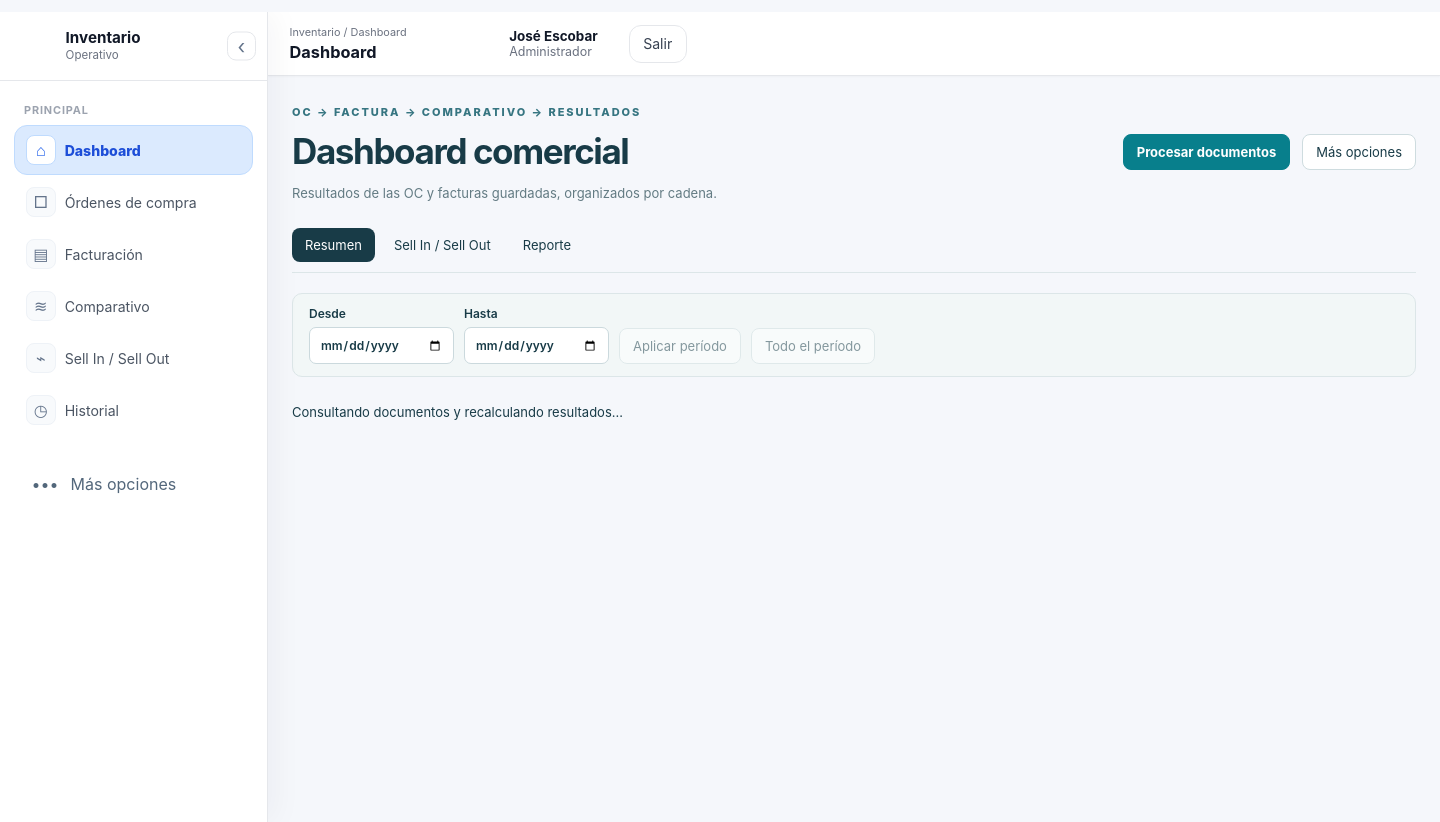
Test: Dashboard › muestra configuración como módulo conectado
The width and height of the screenshot is (1440, 822).
Click the button with aria-label "Más funciones".
click(134, 484)  # box top-left (14, 460), bottom-right (253, 508)
(page scrolled)
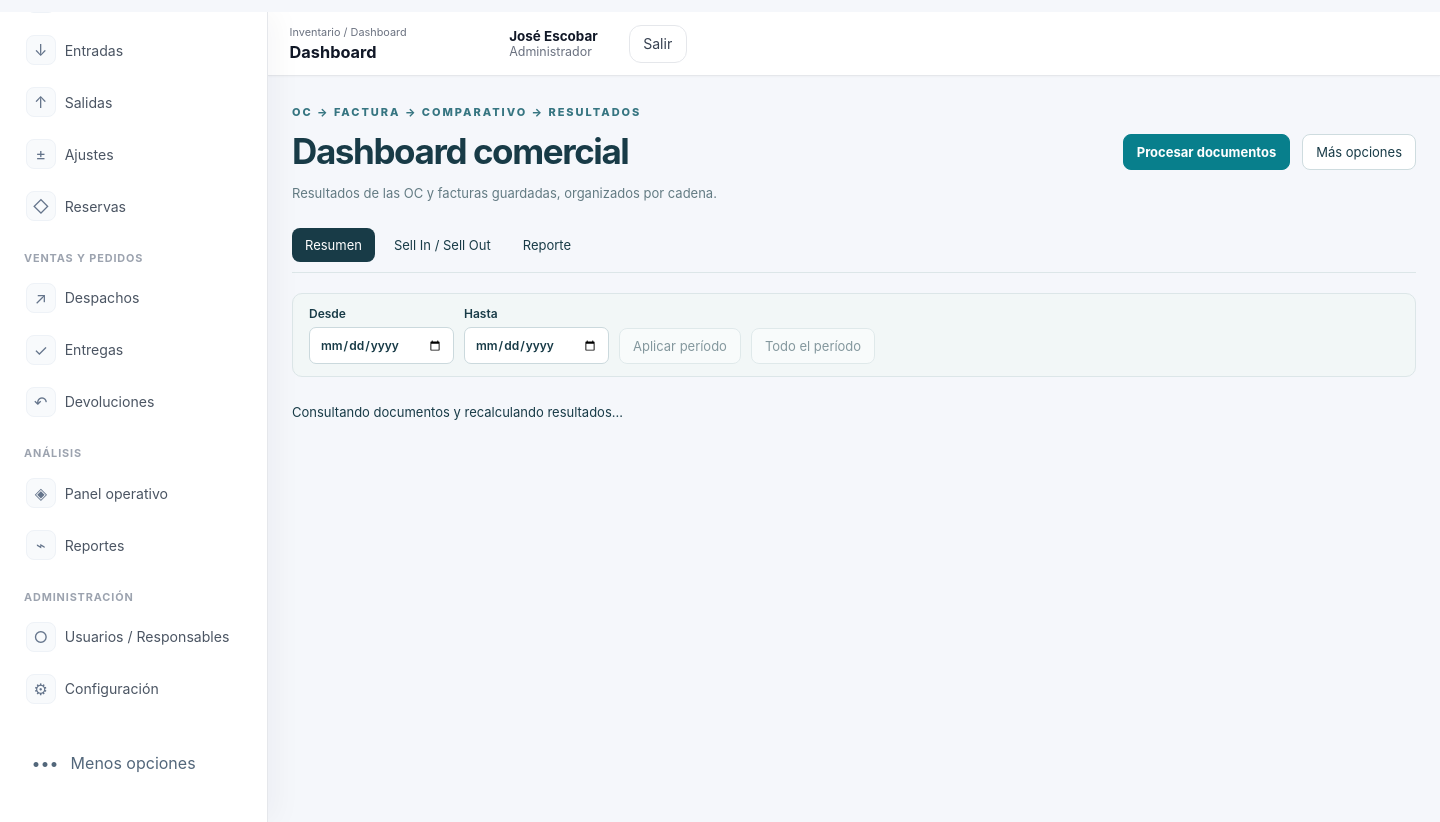
Click the button "⚙ Configuración".
click(134, 689)  # box top-left (14, 664), bottom-right (253, 714)
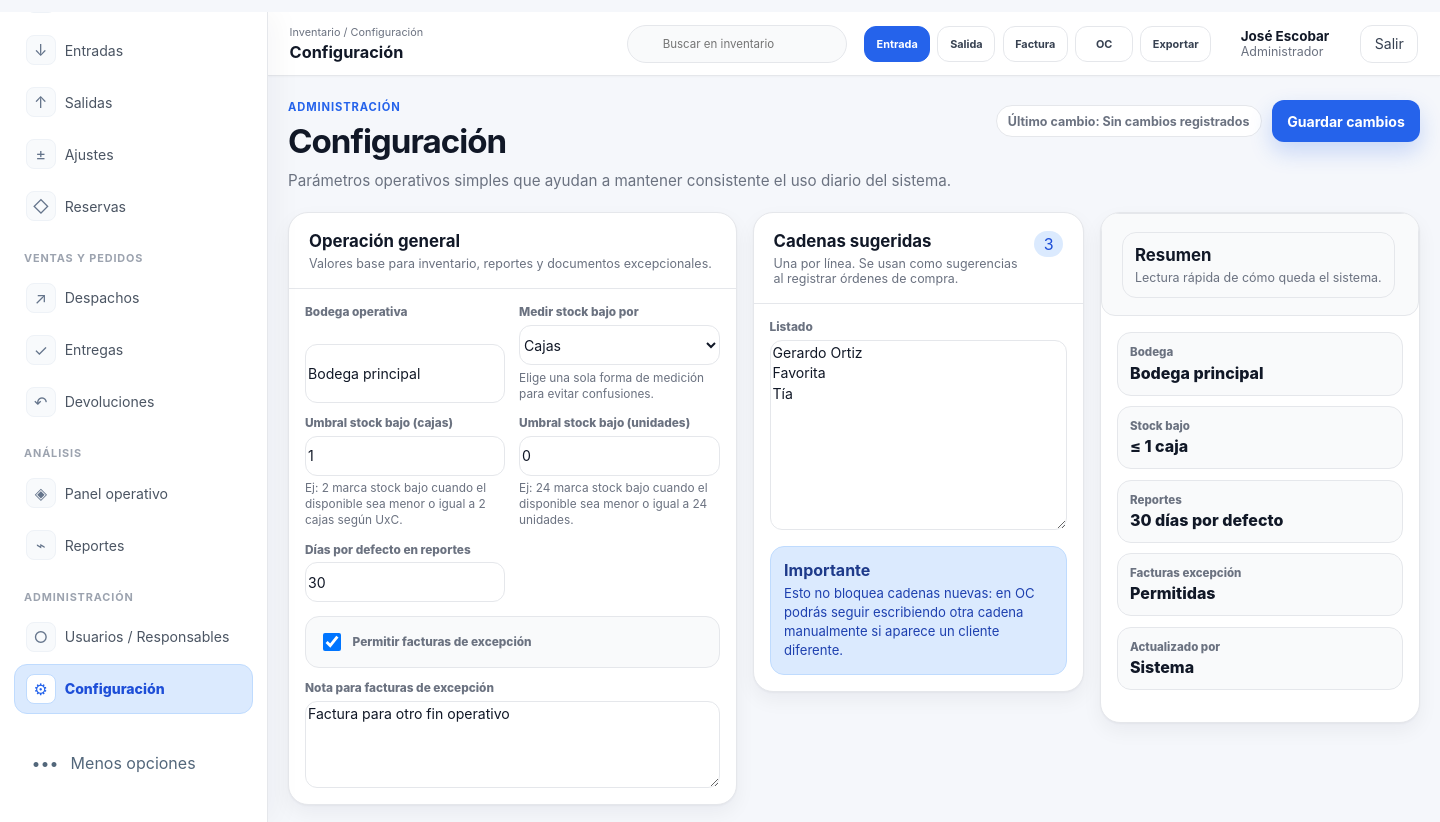
Check: the heading "Configuración" is shown, box top-left (288, 121), bottom-right (506, 161)
Check: the field showing "Bodega principal" is shown, box top-left (305, 344), bottom-right (506, 403)
